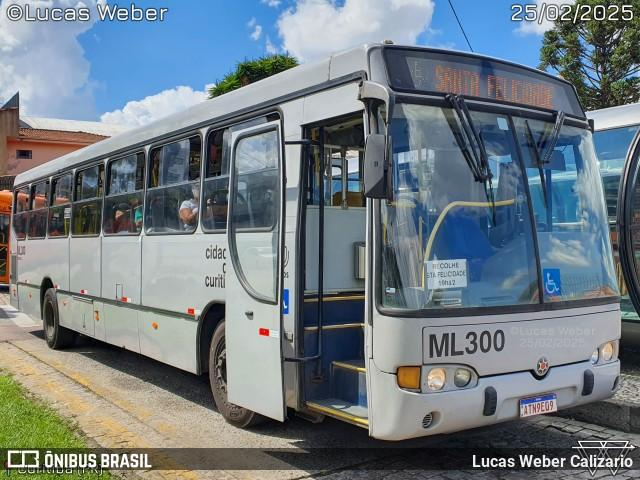SANTA FELICIDADE: (428, 59, 561, 113)
